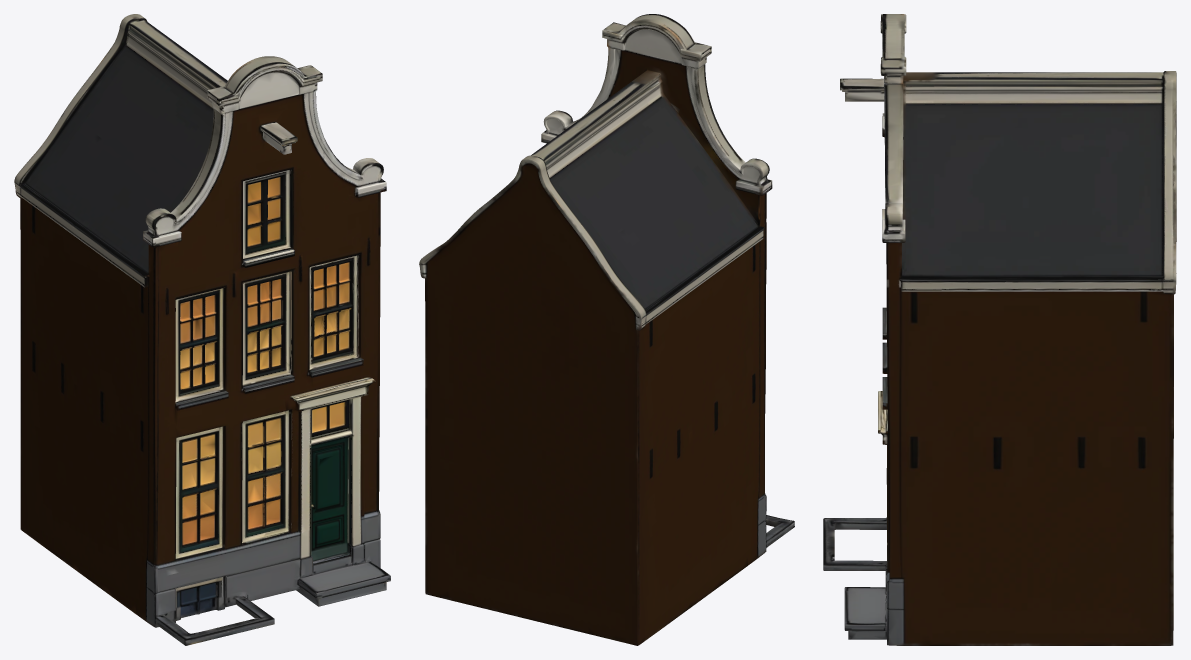
File: townhouse_a_0.glb
3 renders of one model, left to right at view 1: azimuth 30°, elevation 25°; view 2: azimuth 150°, elevation 25°; view 3: azimuth 270°, elevation 25°, orthographic. The views are drawn at different scales.
Visible parts, largest first — view 1: node_0; view 2: node_0; view 3: node_0.
Part boxes in pixels (x1=…): node_0: x1=14, y1=14, x2=390, y2=645; node_0: x1=419, y1=14, x2=794, y2=645; node_0: x1=823, y1=14, x2=1176, y2=645.
Bounding box in the file's own units: 0.4484 × 0.9821 × 0.5524.
1 material, 1 textured.
